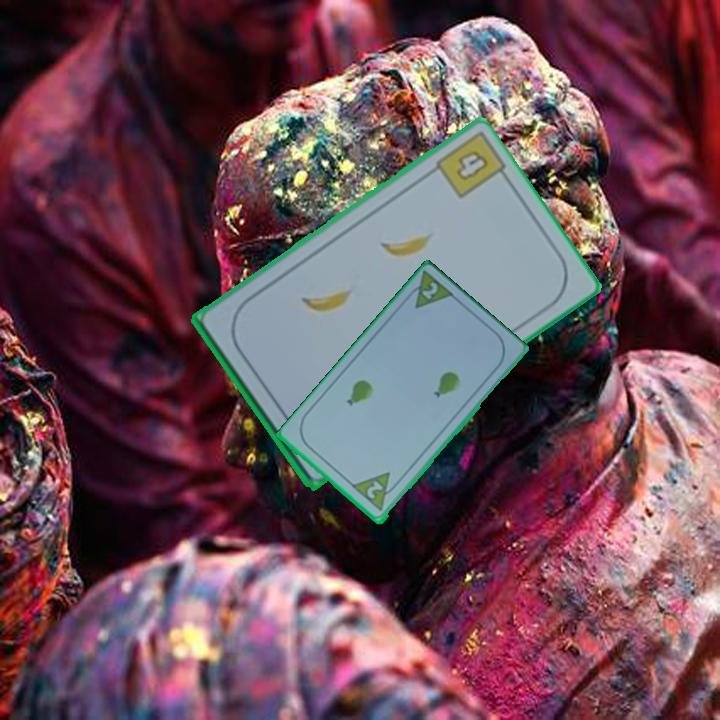2p: (349, 468, 403, 515), (401, 269, 458, 312)
4b: (452, 146, 492, 184)
